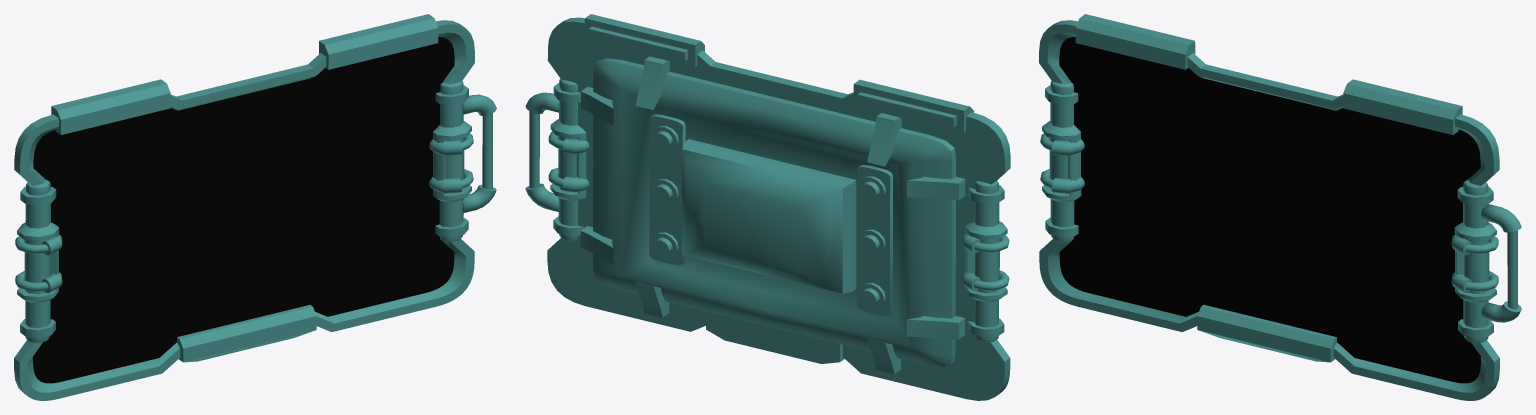
The model's file is M_Screen_NoArm.FBX.
3 renders of one model, left to right at view 1: azimuth 30°, elevation 25°; view 2: azimuth 150°, elevation 25°; view 3: azimuth 330°, elevation 25°, orthographic.
Visible parts, largest first — view 1: Screen; view 2: Screen; view 3: Screen.
Part boxes in pixels (left/top/right/bottom): Screen: left=14, top=14, right=496, bottom=400; Screen: left=525, top=14, right=1010, bottom=400; Screen: left=1039, top=14, right=1521, bottom=400.
Size of the model in its own units: 76.37 by 43.83 by 10.51.
